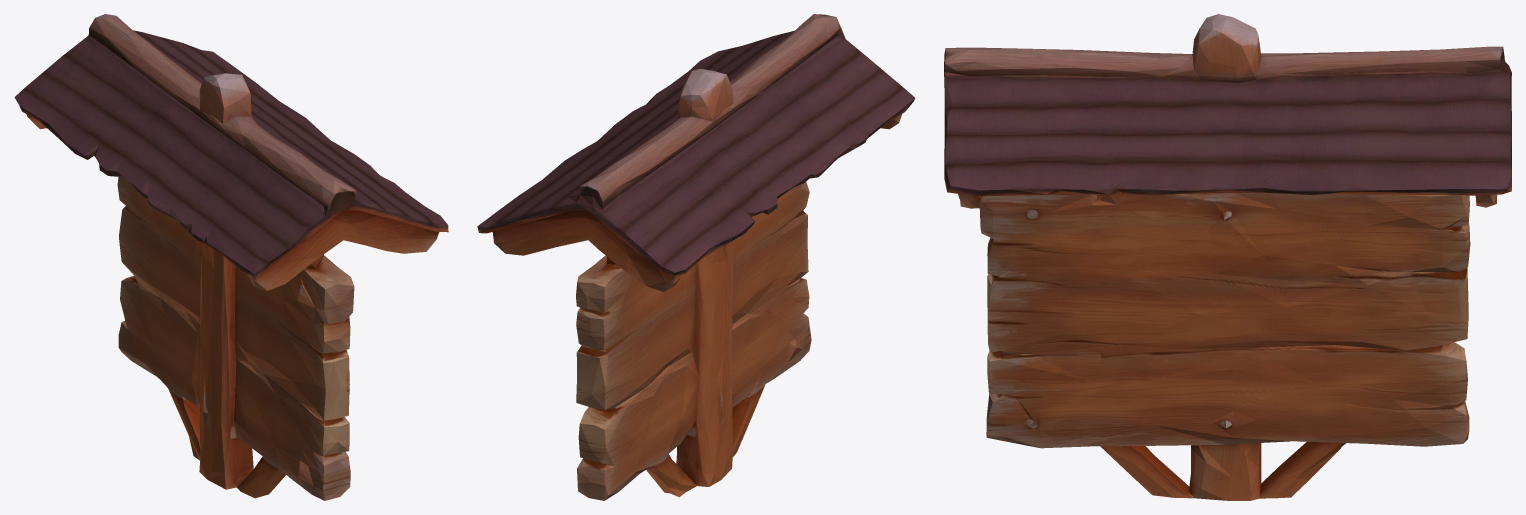
Rendered from wooden+sign+3d+model.glb.
The picture shows the model from 3 angles, left to right: view 1: azimuth 30°, elevation 25°; view 2: azimuth 150°, elevation 25°; view 3: azimuth 270°, elevation 25°; orthographic projection. The views are drawn at different scales.
Parts seen in each view (by area): view 1: tripo_node_4405d79b-17c8-4d6a-8c4c-b8ca55b9c3ab; view 2: tripo_node_4405d79b-17c8-4d6a-8c4c-b8ca55b9c3ab; view 3: tripo_node_4405d79b-17c8-4d6a-8c4c-b8ca55b9c3ab.
Boxes of the visible parts, left/top/right/bottom form: tripo_node_4405d79b-17c8-4d6a-8c4c-b8ca55b9c3ab: left=14, top=14, right=448, bottom=500; tripo_node_4405d79b-17c8-4d6a-8c4c-b8ca55b9c3ab: left=477, top=14, right=915, bottom=500; tripo_node_4405d79b-17c8-4d6a-8c4c-b8ca55b9c3ab: left=944, top=14, right=1511, bottom=500.
Size of the model in its own units: 0.4896 by 0.9132 by 0.9982.
1 material, 1 textured.
